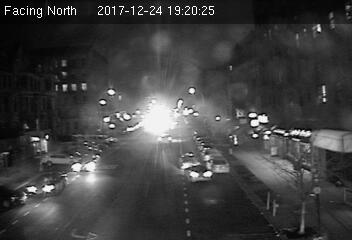car: (27, 172, 65, 196), (183, 163, 213, 183), (70, 151, 100, 169), (206, 154, 231, 174), (179, 152, 199, 170)
